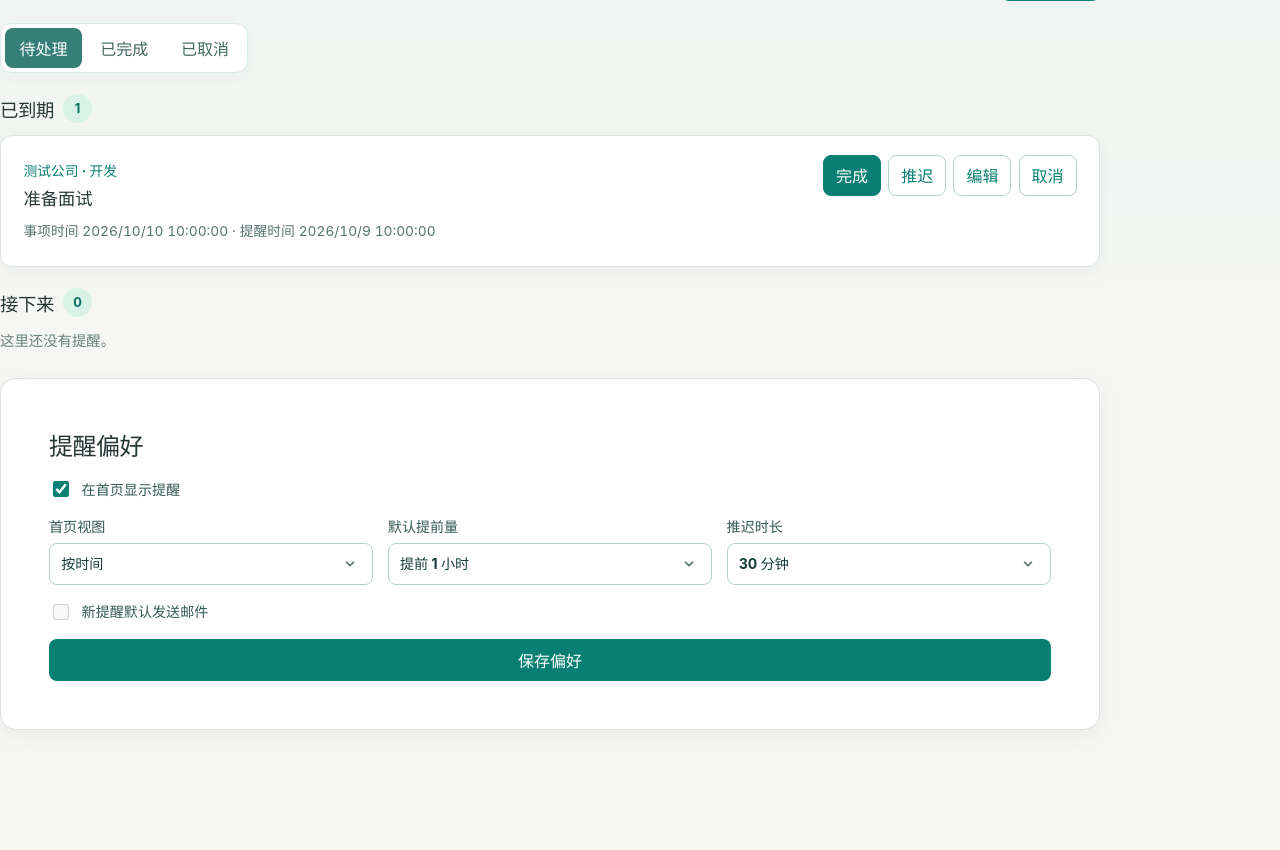
Test case: edits a reminder only after its times are moved into the future
Click the button "编辑" at point(982, 175), box [953, 155, 1011, 196]
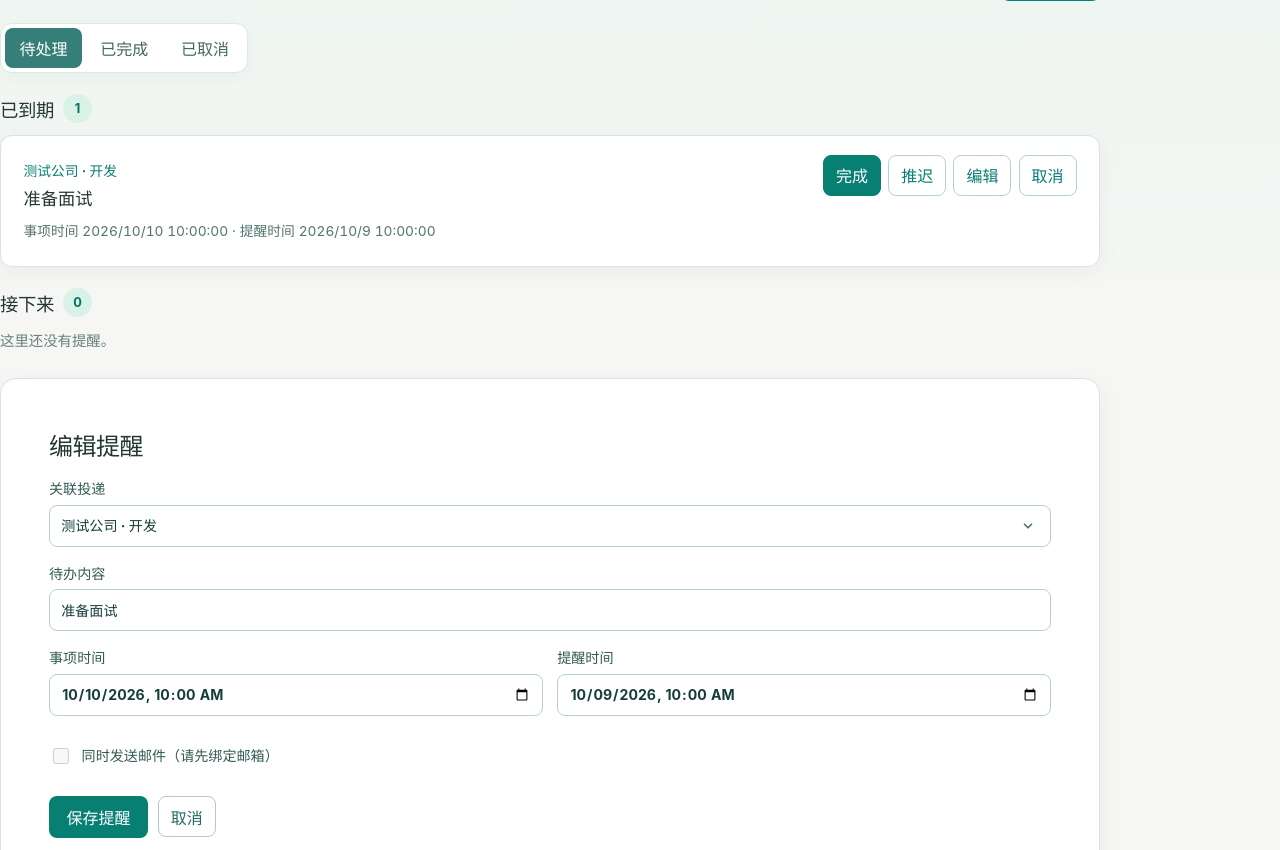
Replace the text in the field labelled "待办内容" with "准备终面" at point(550, 610), box [49, 589, 1051, 631]
(page scrolled)
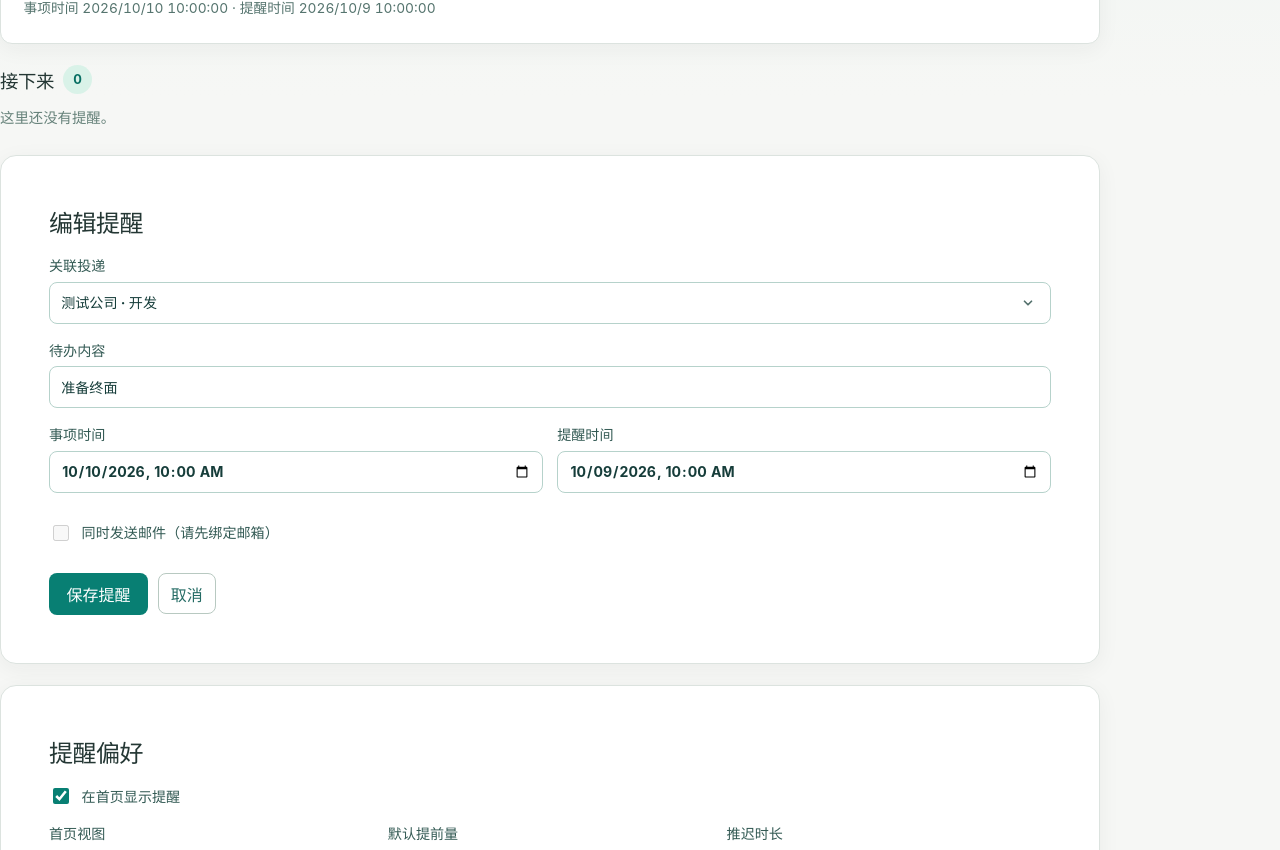
Submit the form "保存提醒", box [0, 156, 1100, 664]
(page scrolled)
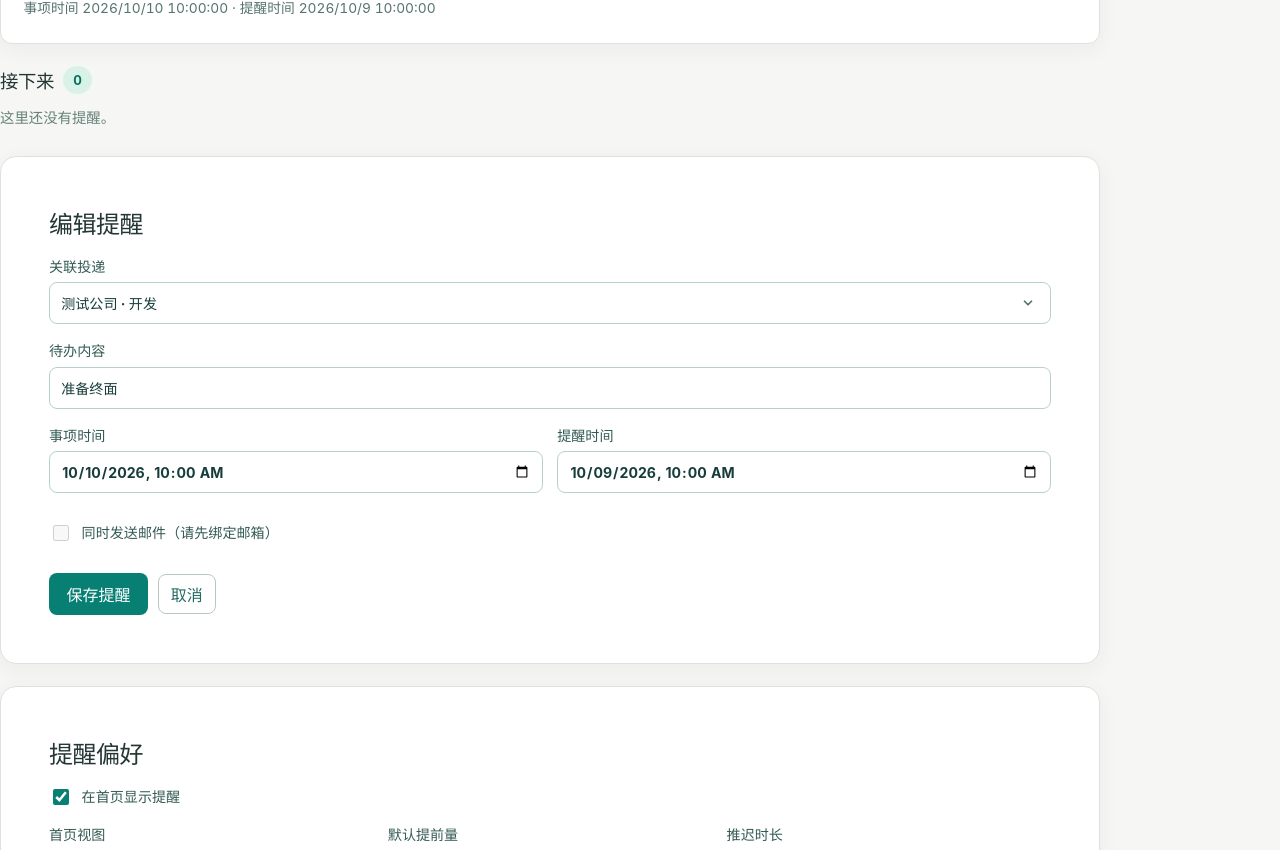
Replace the text in the field labelled "事项时间" with "2027-02-01T10:00" at point(296, 472), box [49, 451, 543, 493]
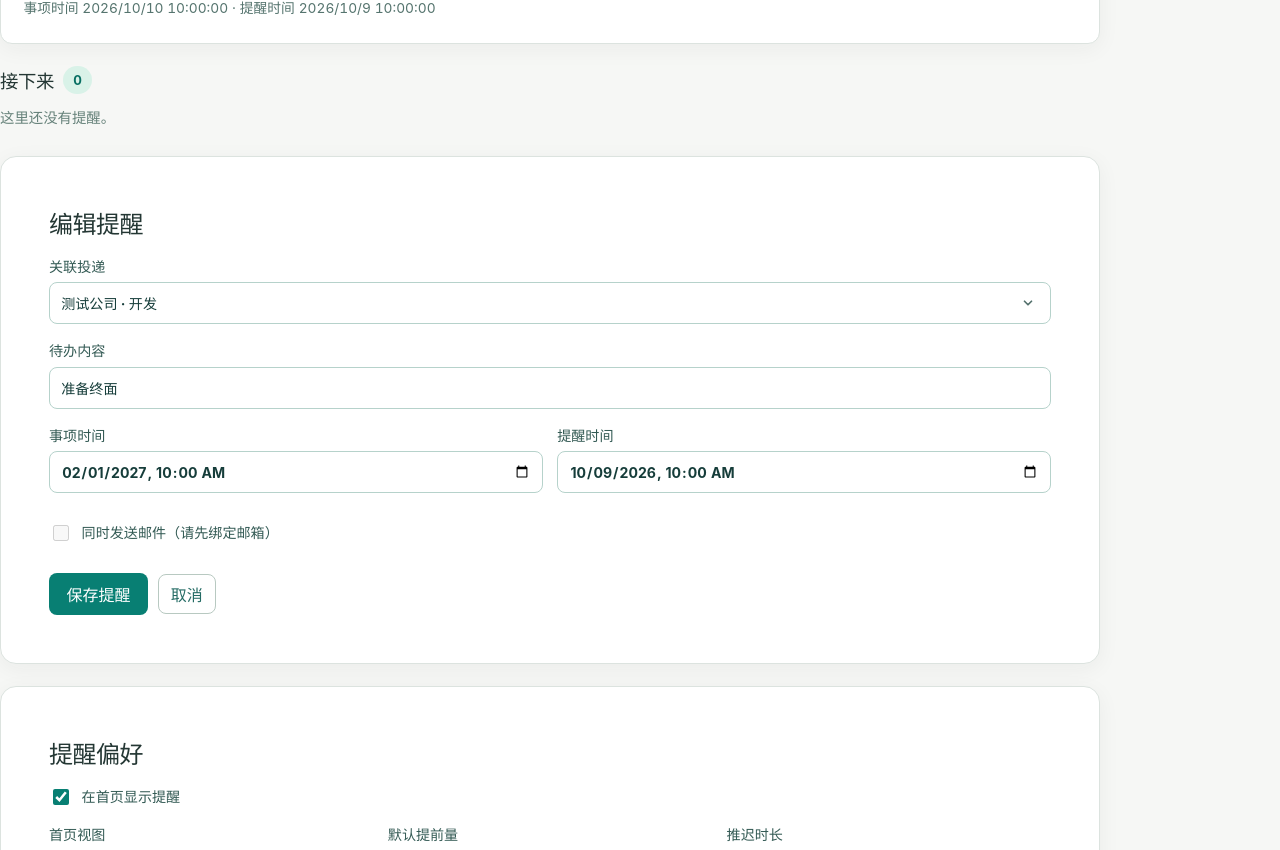
Replace the text in the field labelled "提醒时间" with "2027-02-01T09:00" at point(804, 472), box [557, 451, 1051, 493]
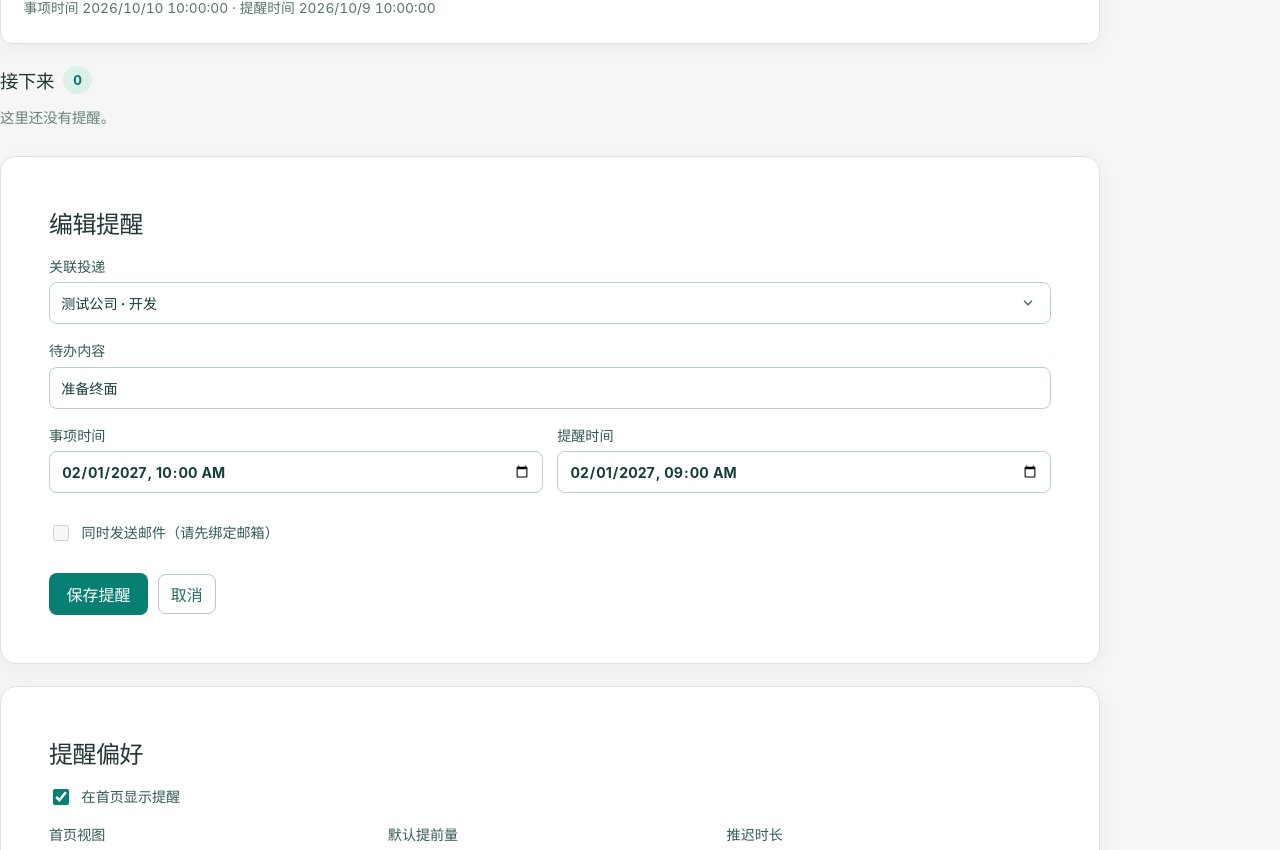
Submit the form "保存提醒", box [0, 156, 1100, 664]
(page scrolled)
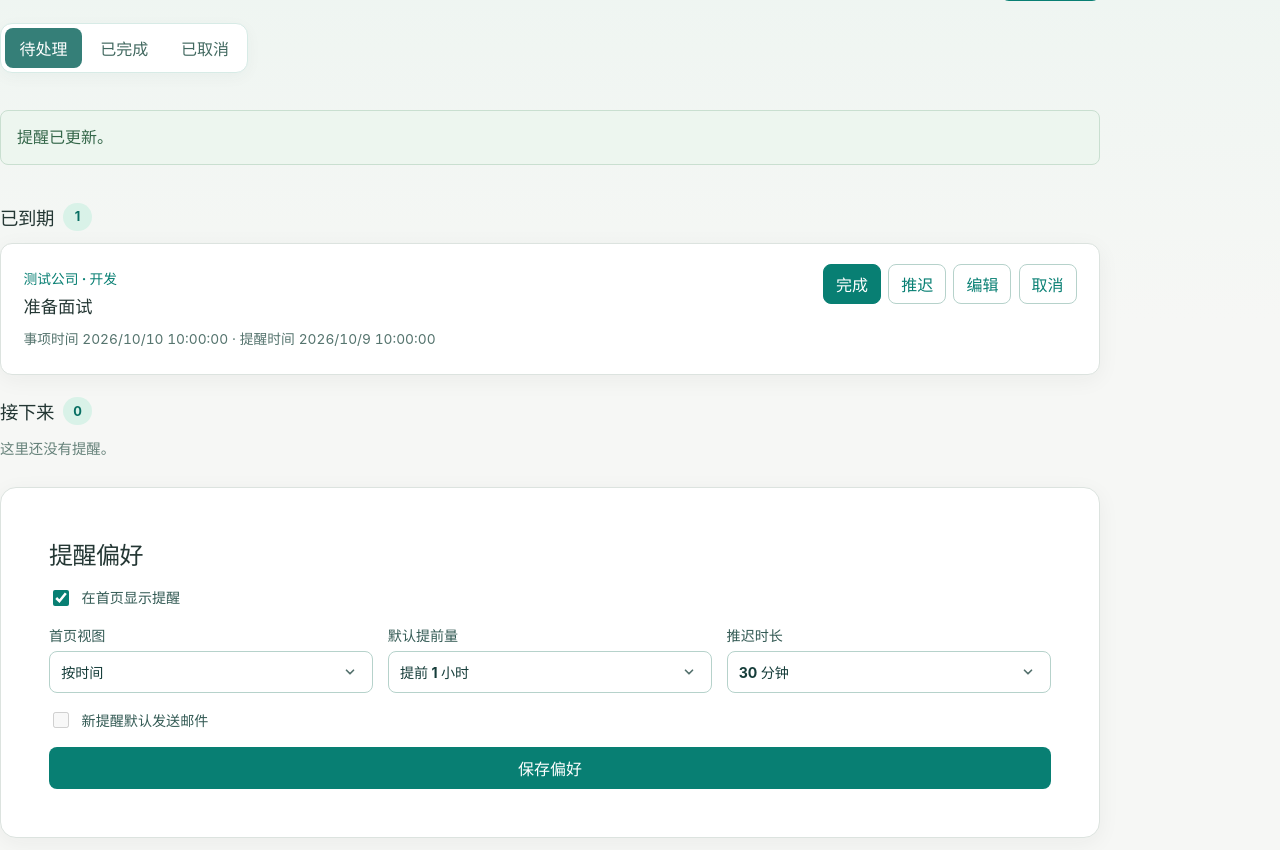
Check: the text "提醒已更新。" is shown, box [0, 110, 1100, 165]
